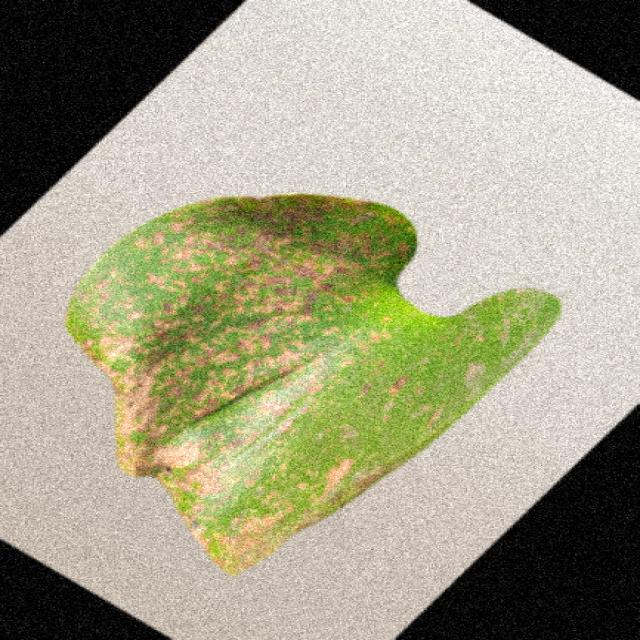daun berpenyakit bercak: (69, 194, 560, 574)
